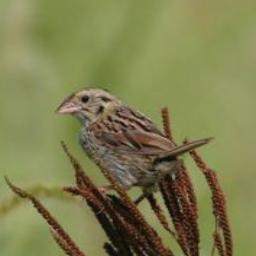Sparrow: (52, 85, 216, 211)
